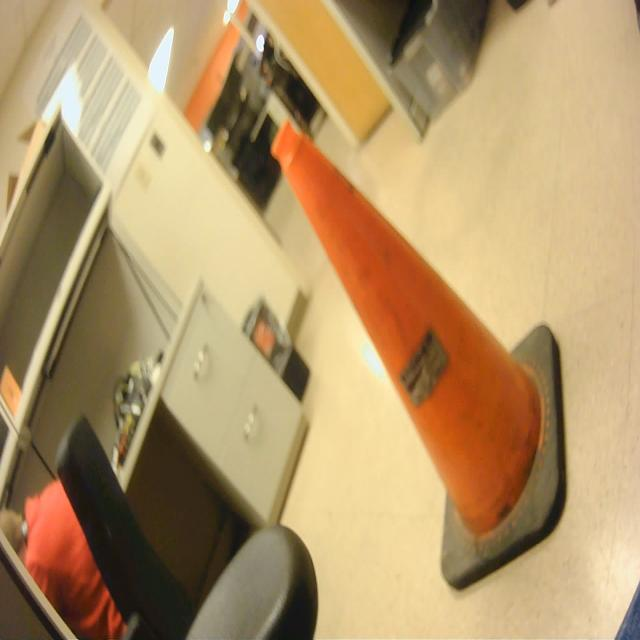traffic cone: (266, 110, 577, 597)
